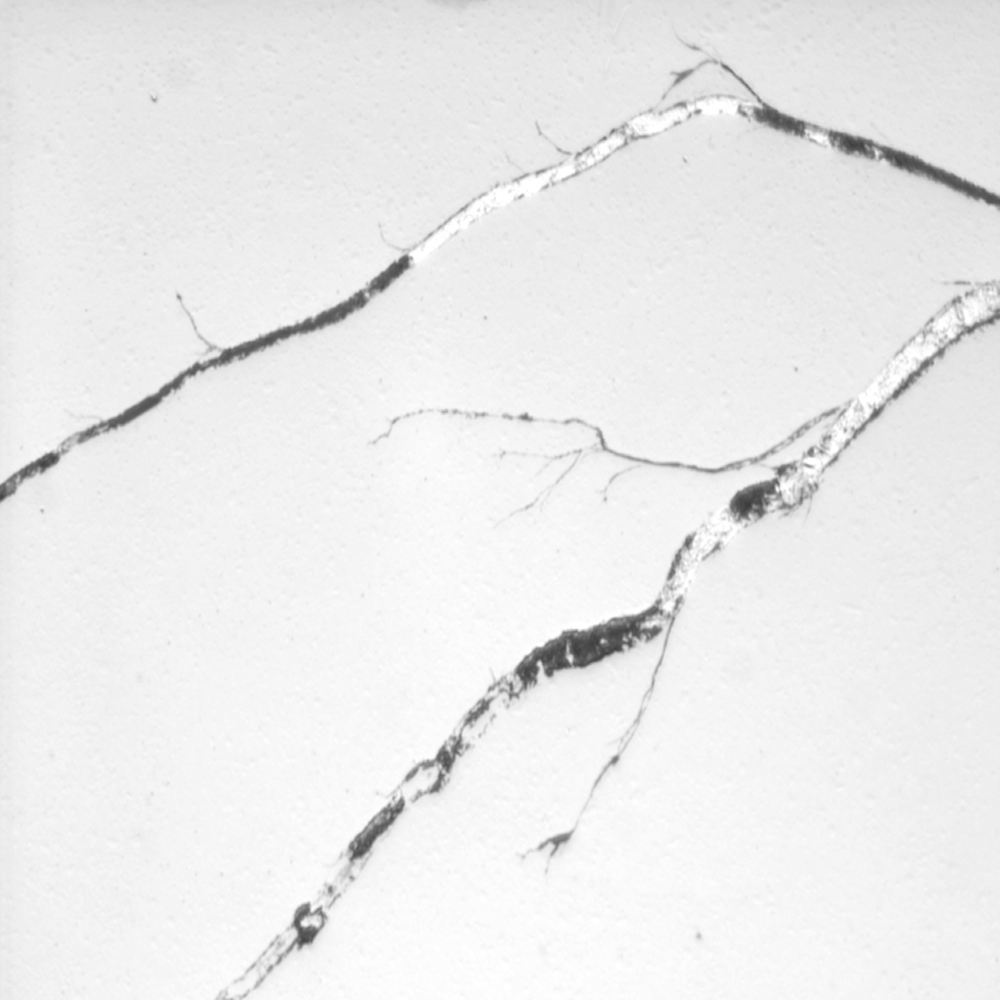crack: (9, 61, 993, 1000)
